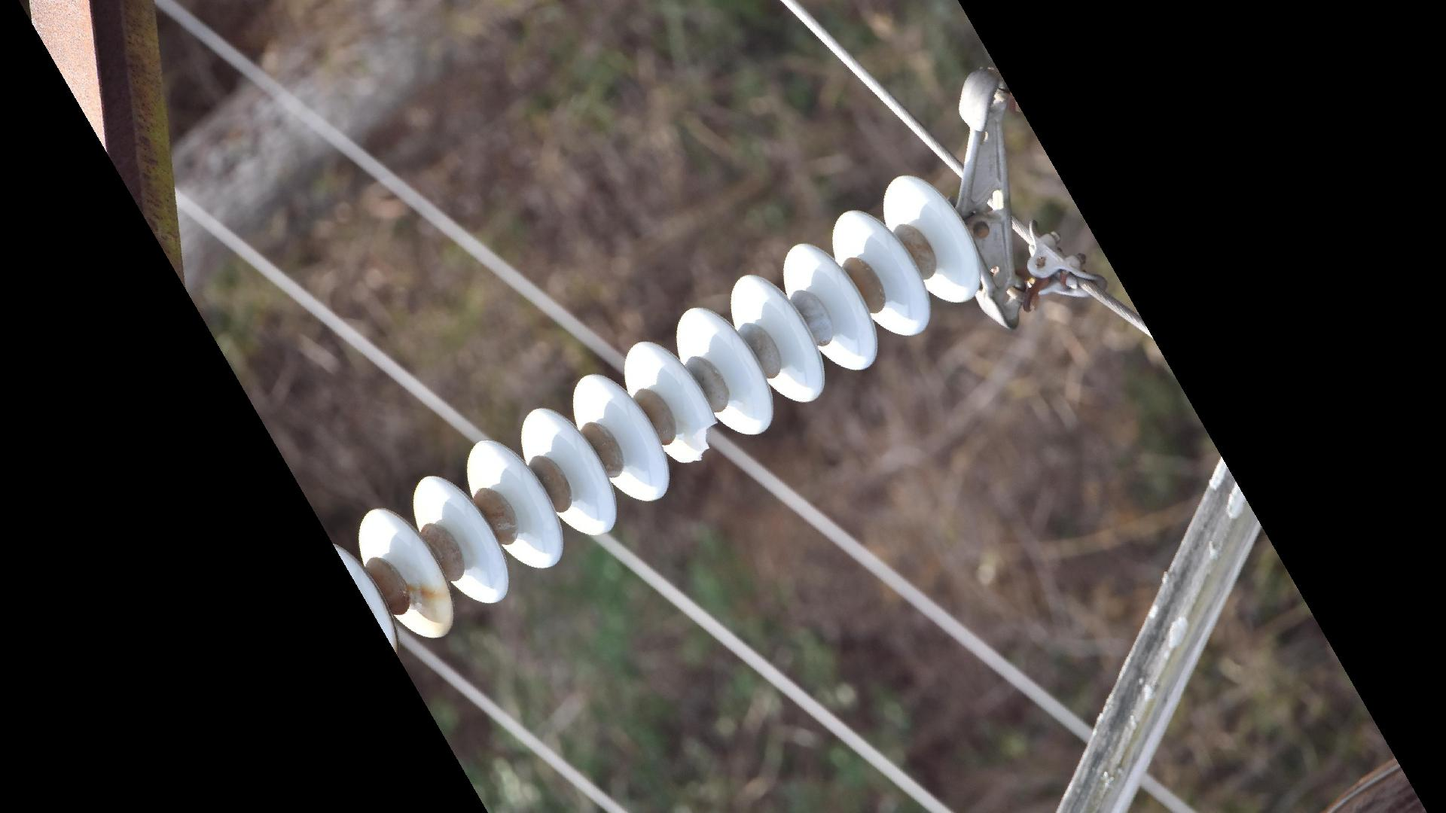insulator: (343, 168, 987, 650)
insulator_breakage: (679, 415, 724, 470)
